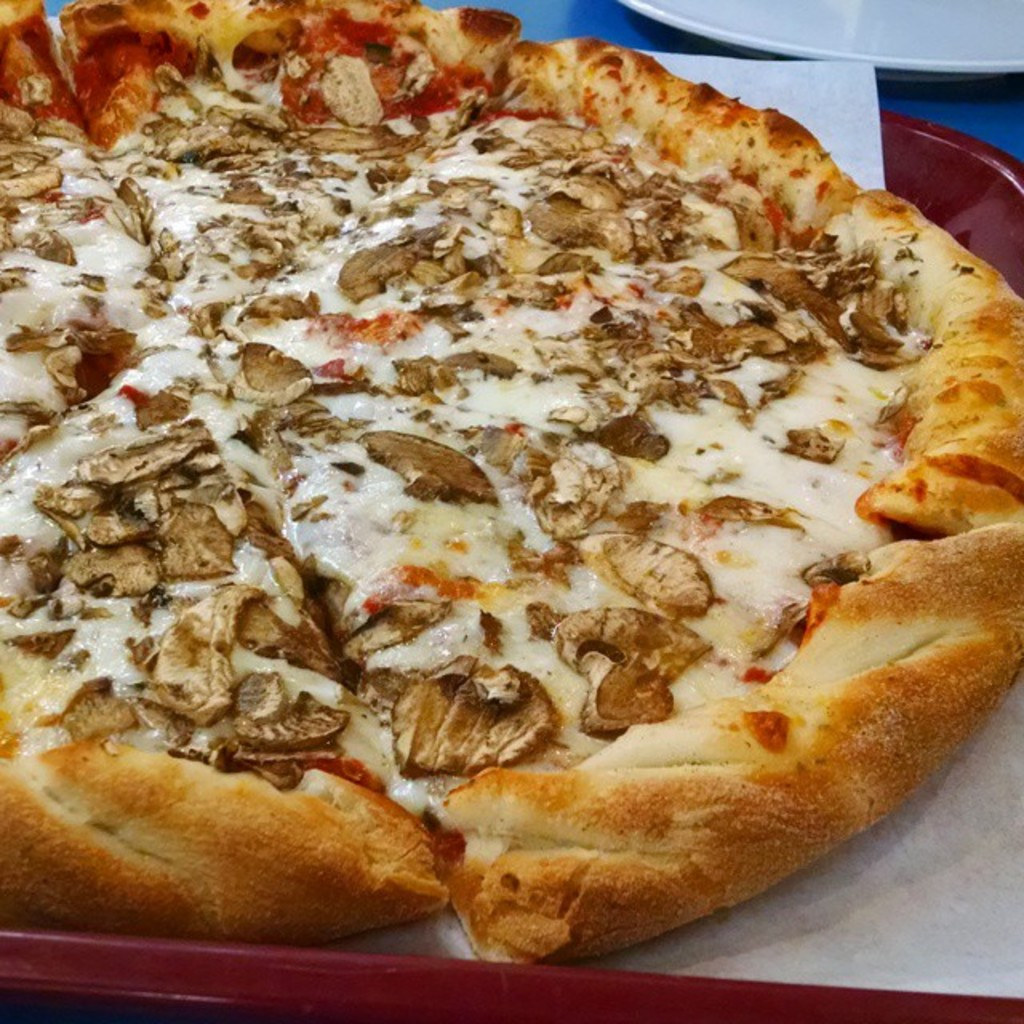Pizza: (0, 0, 1022, 971)
